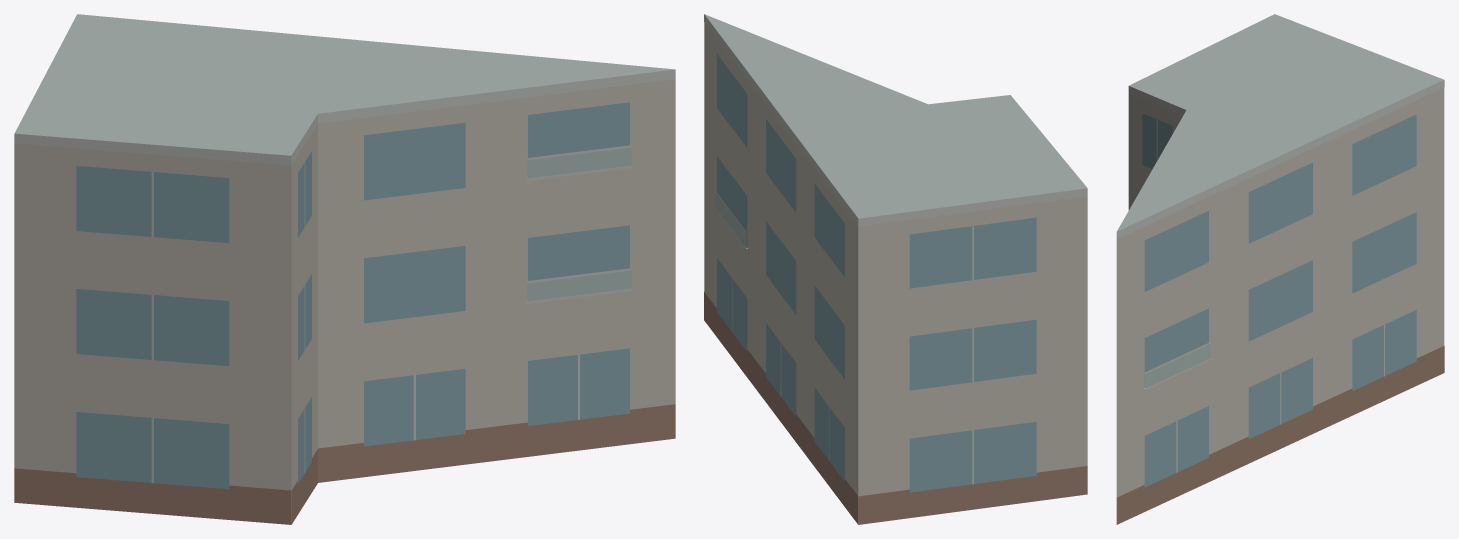
The model's file is survey-upis-32890271.glb.
3 views of the same model, side by side, from view 1: azimuth 30°, elevation 25°; view 2: azimuth 150°, elevation 25°; view 3: azimuth 270°, elevation 25° (orthographic). The views are drawn at different scales.
Visible parts, largest first — view 1: survey-upis-32890271.tmp; view 2: survey-upis-32890271.tmp; view 3: survey-upis-32890271.tmp.
Part boxes in pixels (bbox=[...]): survey-upis-32890271.tmp: bbox=[14, 14, 675, 524]; survey-upis-32890271.tmp: bbox=[704, 14, 1087, 524]; survey-upis-32890271.tmp: bbox=[1116, 14, 1444, 524].
Size of the model in its own units: 14.82 by 9.3 by 9.43.
